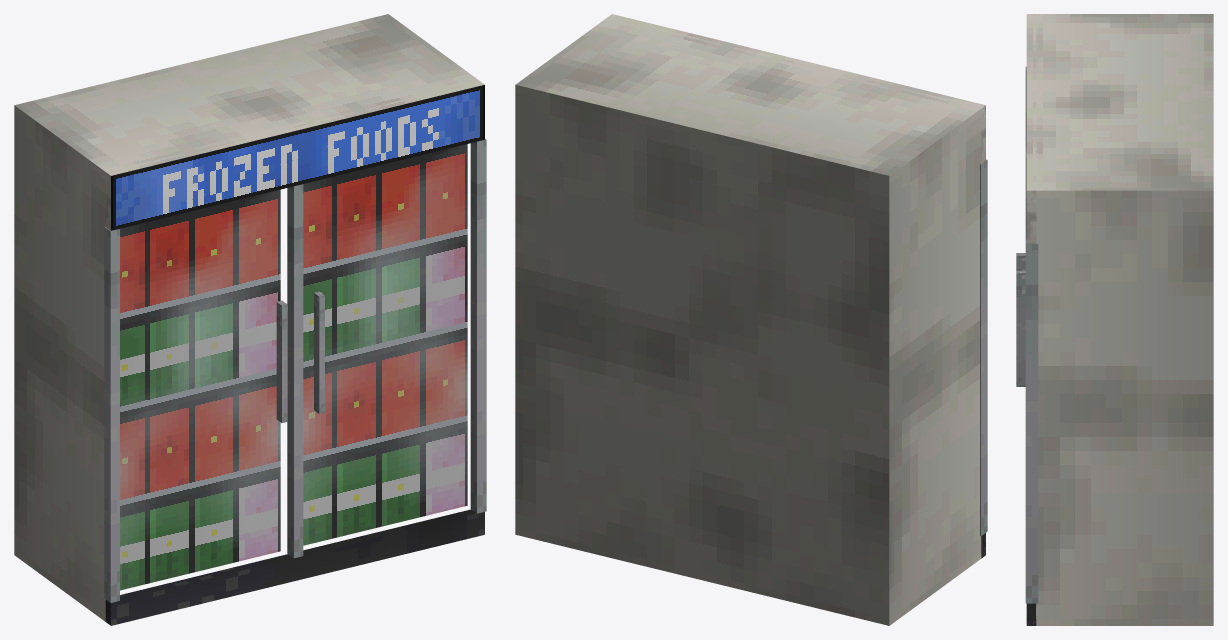
Rendered from freezer_doors.glb.
The picture shows the model from 3 angles, left to right: view 1: azimuth 30°, elevation 25°; view 2: azimuth 150°, elevation 25°; view 3: azimuth 270°, elevation 25°; orthographic projection. The views are drawn at different scales.
Parts seen in each view (by area): view 1: freezer_doors_lamp, freezer_doors; view 2: freezer_doors; view 3: freezer_doors.
Part boxes in pixels (x1=…): freezer_doors_lamp: x1=113, y1=85, x2=483, y2=590; freezer_doors: x1=14, y1=14, x2=486, y2=625; freezer_doors: x1=515, y1=14, x2=987, y2=625; freezer_doors: x1=1016, y1=14, x2=1213, y2=625.
Bounding box in the file's own units: 2.01 × 2.3 × 0.945.
2 materials, 2 textured.
